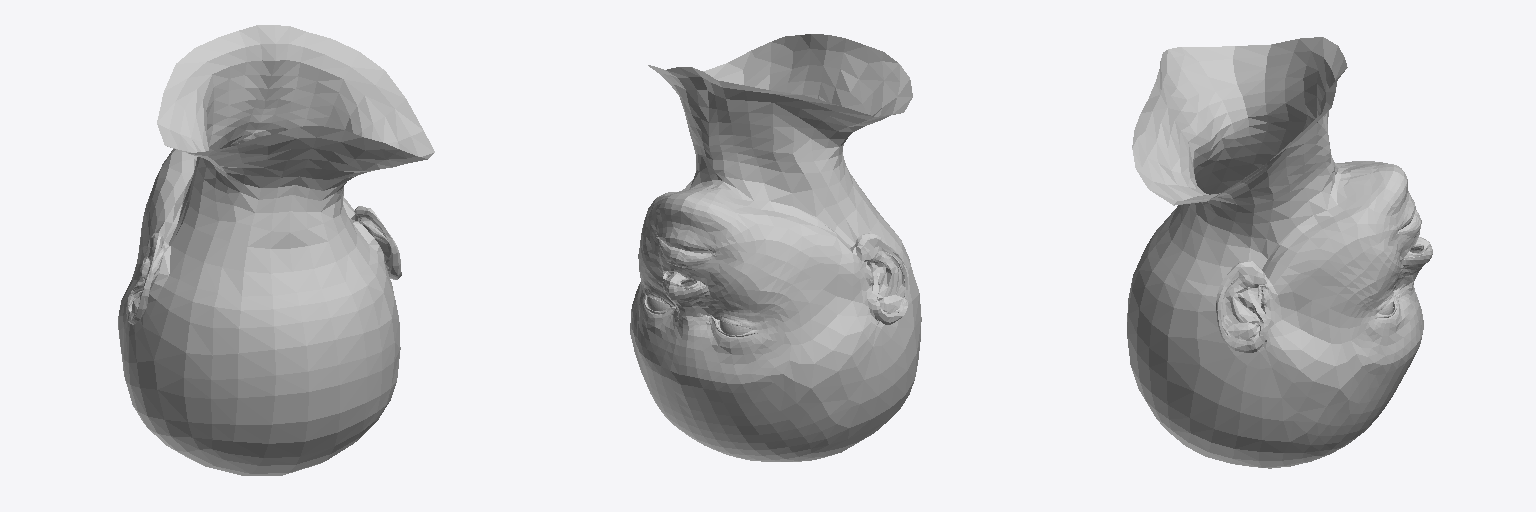
File: fit_scan_result.obj
3 renders of one model, left to right at view 1: azimuth 30°, elevation 25°; view 2: azimuth 150°, elevation 25°; view 3: azimuth 270°, elevation 25°, orthographic.
Bounding box in the file's own units: 0.1788 × 0.2578 × 0.1793.